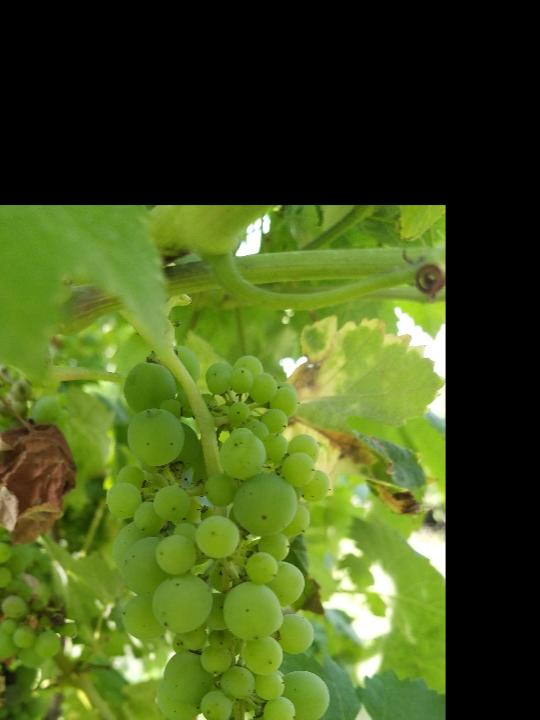grape: (103, 343, 336, 720)
